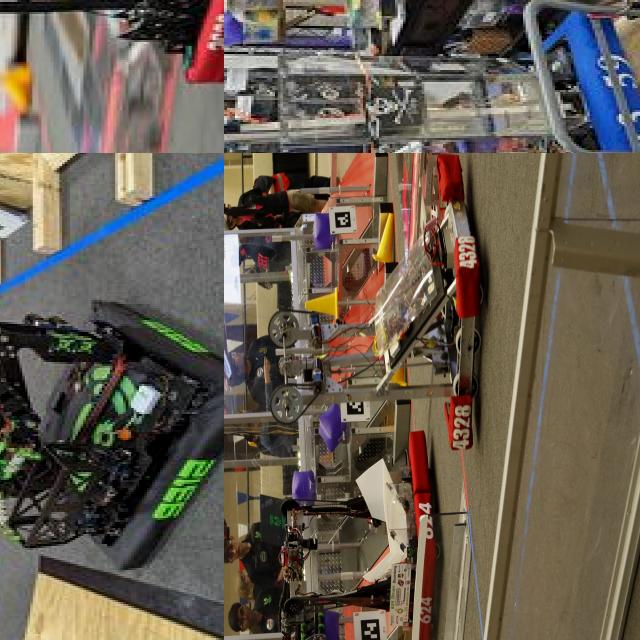FRC-Robots: (0, 261, 224, 576), (285, 0, 640, 153), (303, 170, 495, 448), (310, 453, 454, 640), (0, 0, 224, 94)
